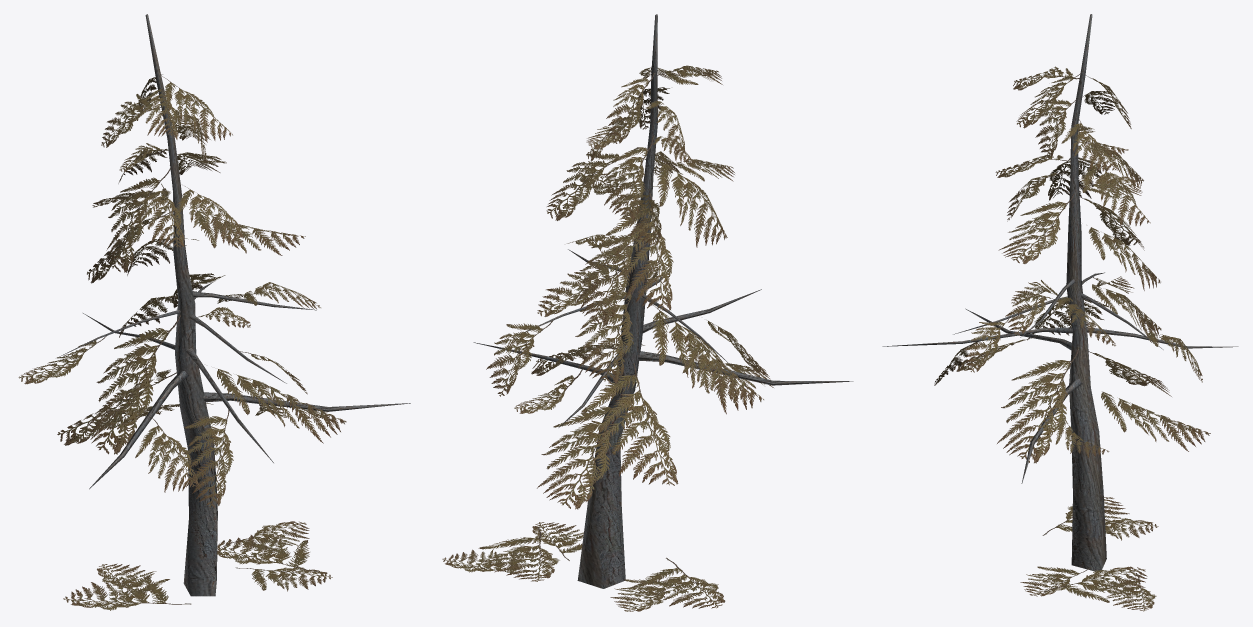
Rendered from cedro_morto.glb.
3 renders of one model, left to right at view 1: azimuth 30°, elevation 25°; view 2: azimuth 150°, elevation 25°; view 3: azimuth 270°, elevation 25°, orthographic. The views are drawn at different scales.
Visible parts, largest first — view 1: models\foliage\cedar_dead_01.vmdl_c.cedar_dead_01; view 2: models\foliage\cedar_dead_01.vmdl_c.cedar_dead_01; view 3: models\foliage\cedar_dead_01.vmdl_c.cedar_dead_01.
Boxes of the visible parts, bbox=[...] form: models\foliage\cedar_dead_01.vmdl_c.cedar_dead_01: bbox=[18, 14, 410, 610]; models\foliage\cedar_dead_01.vmdl_c.cedar_dead_01: bbox=[442, 14, 853, 611]; models\foliage\cedar_dead_01.vmdl_c.cedar_dead_01: bbox=[882, 14, 1238, 611].
Bounding box in the file's own units: 2.58 × 4.1 × 2.52.
Materials: 2 (2 with a texture image).
